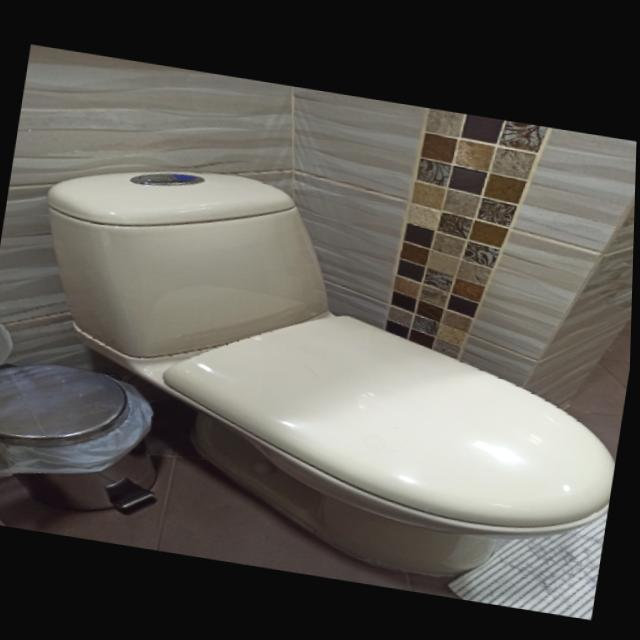toilet: (0, 142, 637, 598)
